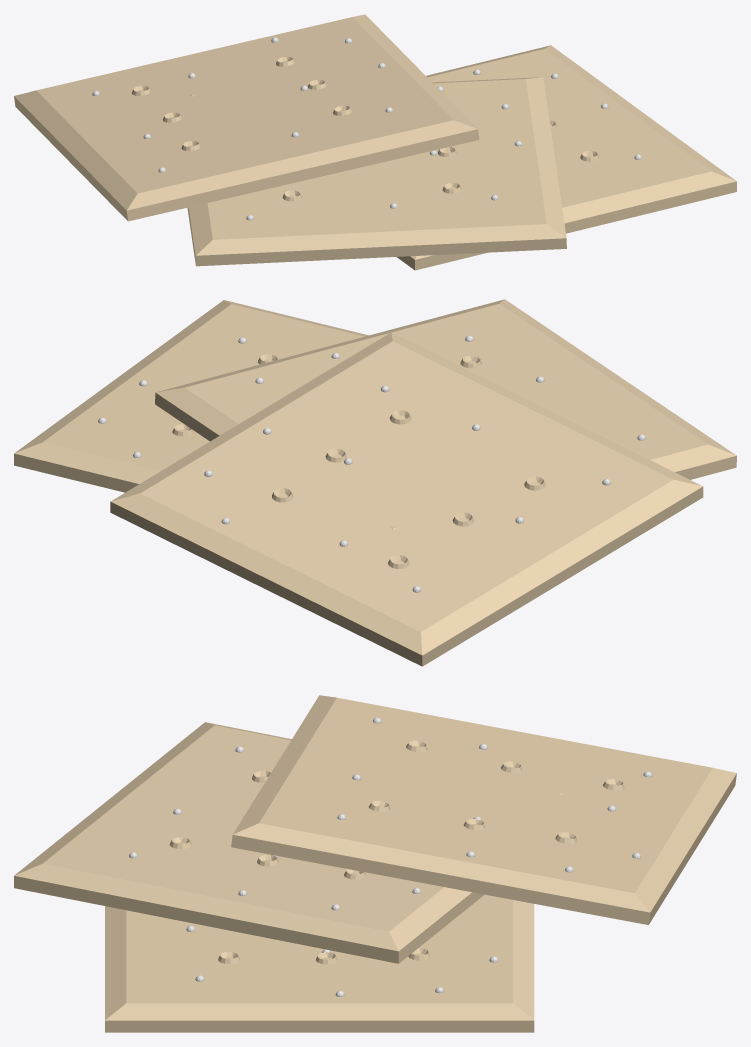
Rendered from Cracker_UV.fbx.
3 views of the same model, one above another, from view 1: azimuth 30°, elevation 25°; view 2: azimuth 150°, elevation 25°; view 3: azimuth 270°, elevation 25° (orthographic). The views are drawn at different scales.
Visible parts, largest first — view 1: Mesh; view 2: Mesh; view 3: Mesh.
Boxes of the visible parts, left/top/right/bottom form: Mesh: left=14, top=14, right=736, bottom=270; Mesh: left=14, top=299, right=736, bottom=666; Mesh: left=14, top=695, right=736, bottom=1032.
Size of the model in its own units: 1.53 by 0.228 by 1.6.
